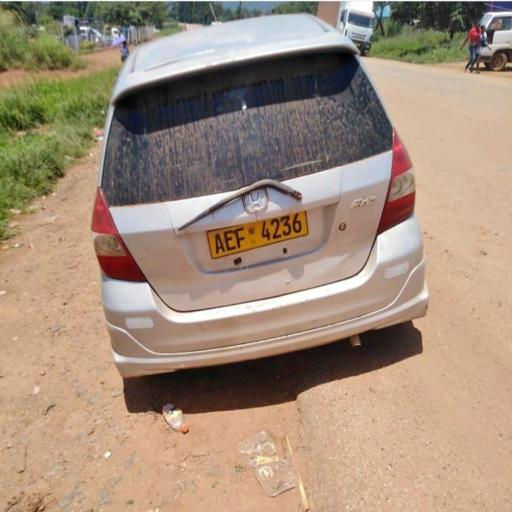number-plates: (205, 212, 315, 258)
